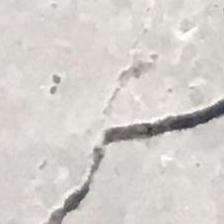Crack: (32, 96, 224, 223)
